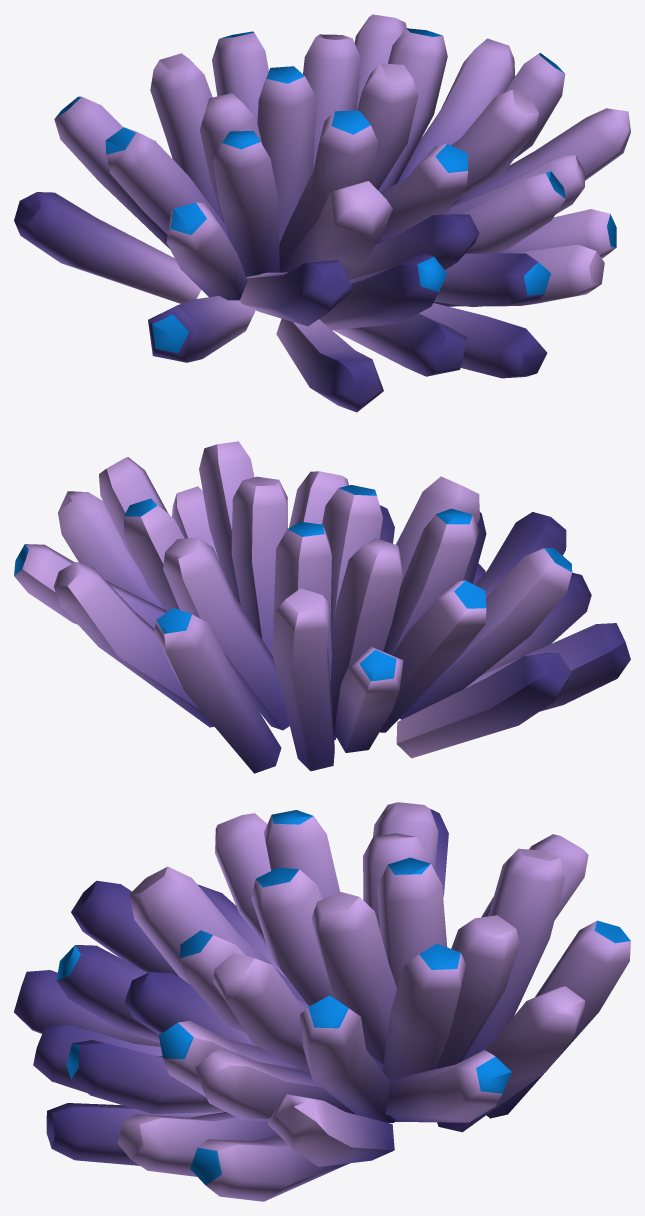
The model's file is coral.fbx.
3 renders of one model, top to bottom at view 1: azimuth 30°, elevation 25°; view 2: azimuth 150°, elevation 25°; view 3: azimuth 270°, elevation 25°, orthographic. The views are drawn at different scales.
Parts seen in each view (by area): view 1: coral; view 2: coral; view 3: coral.
Boxes of the visible parts, box(x1,y1,x2,y2) form: coral: box(14, 14, 630, 412); coral: box(14, 441, 630, 773); coral: box(14, 802, 630, 1201).
Size of what is drawn, in the model's own units: 129 by 51.96 by 110.
